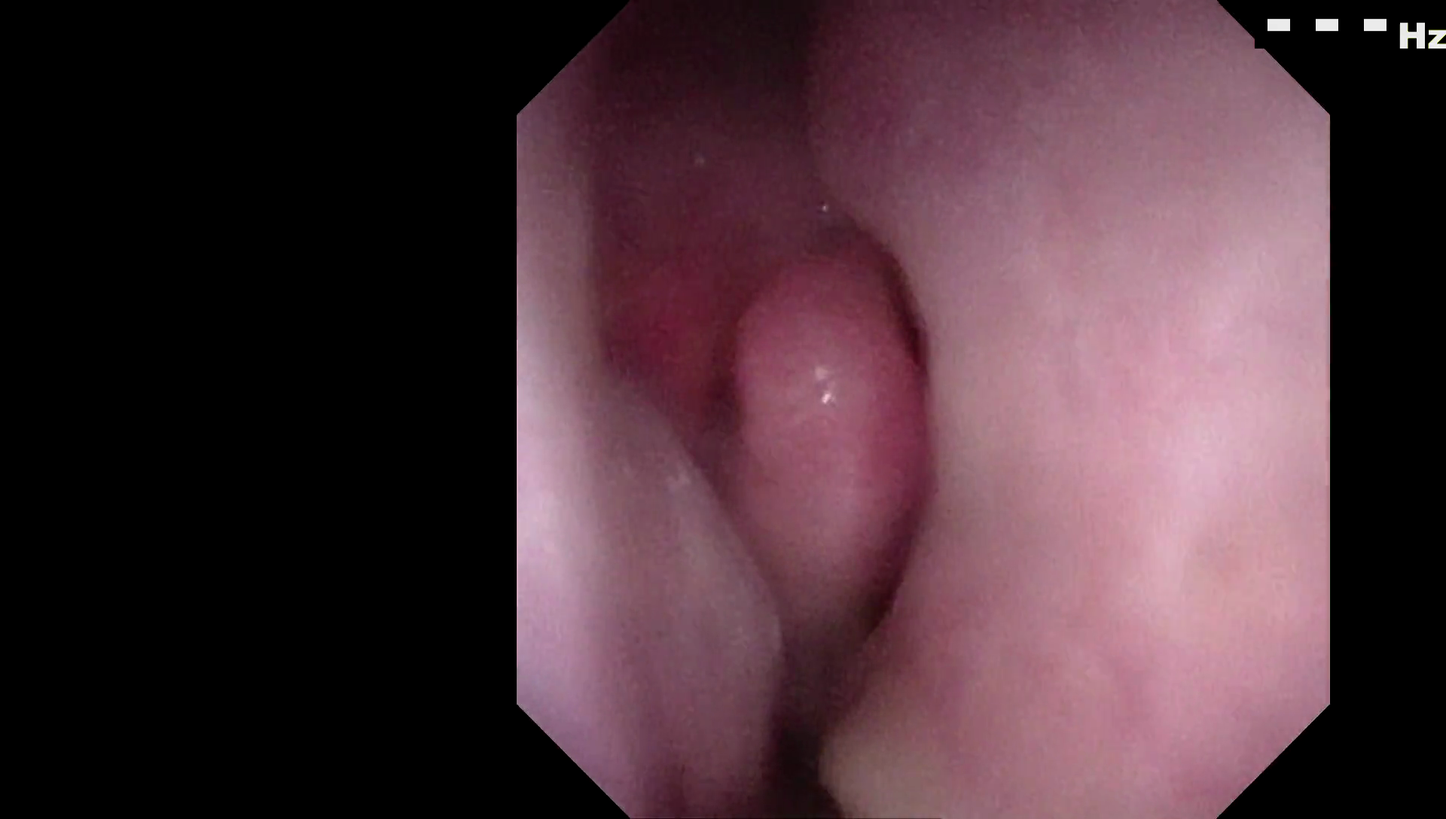close_wall: (980, 38, 1320, 687)
next: (581, 0, 840, 120), (725, 656, 852, 819)
